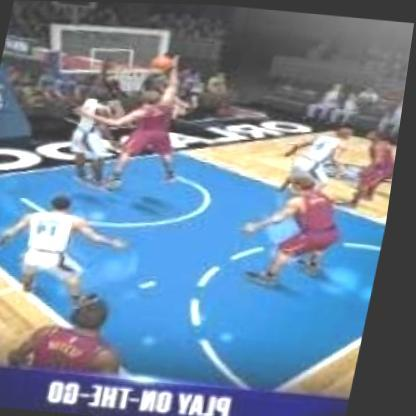basketball: (154, 51, 176, 73)
